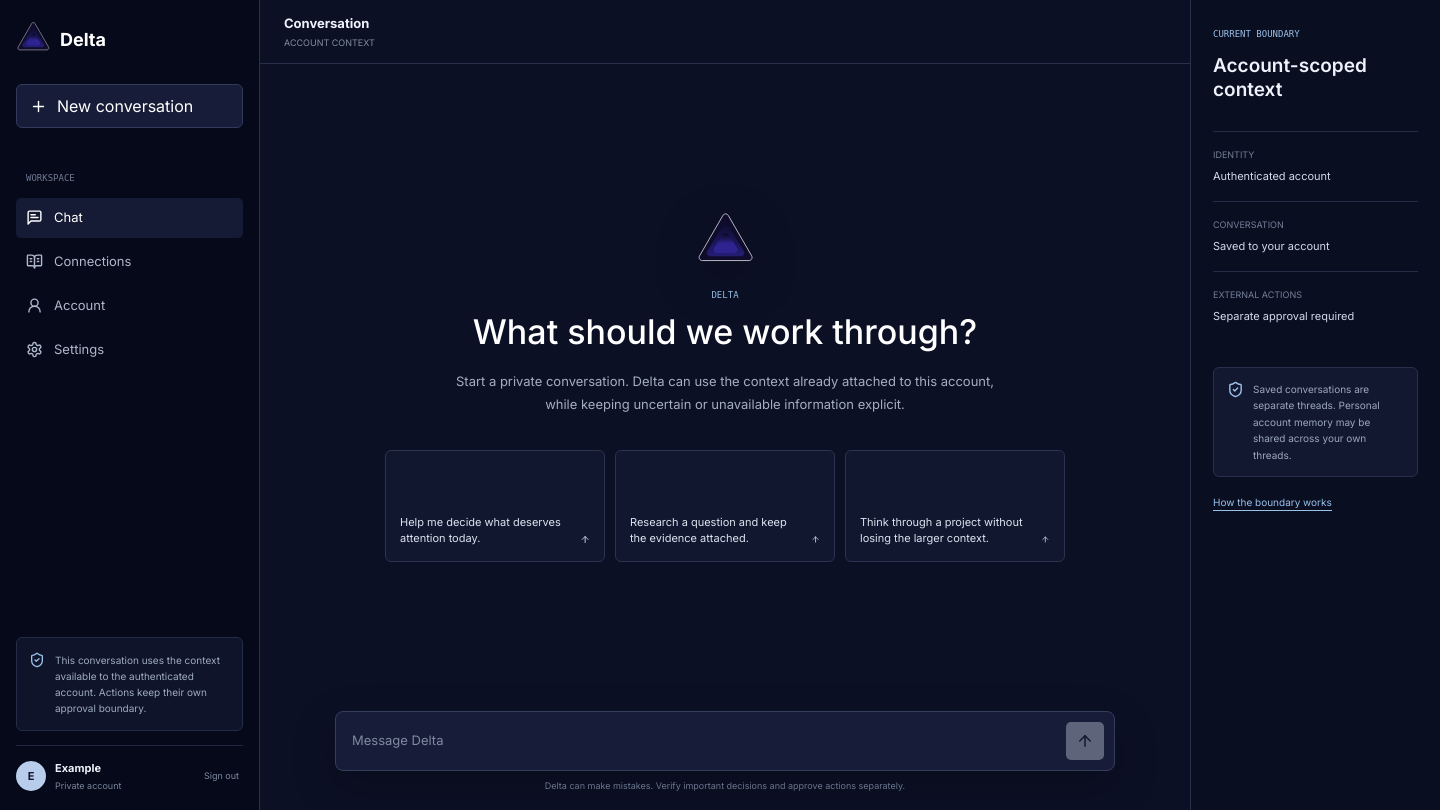
Test: Delta chat workspace › sends only conversation content with the authenticated bearer token
Type "What matters now?" into the text box labelled "Message Delta" at {"x": 704, "y": 740}, box [352,722,1056,760]
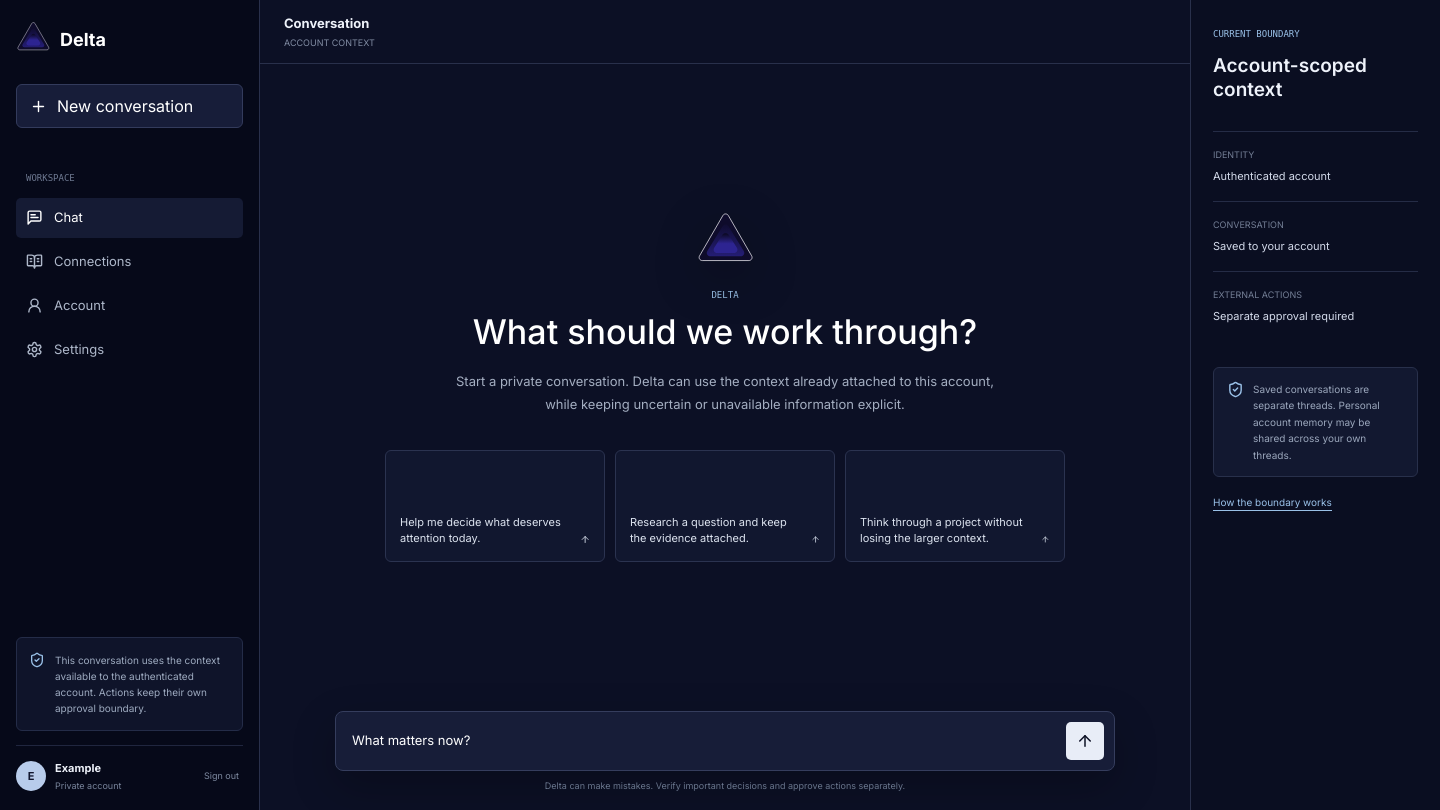
Click the button named "Send message" at {"x": 1085, "y": 740}, box [1066,722,1104,760]
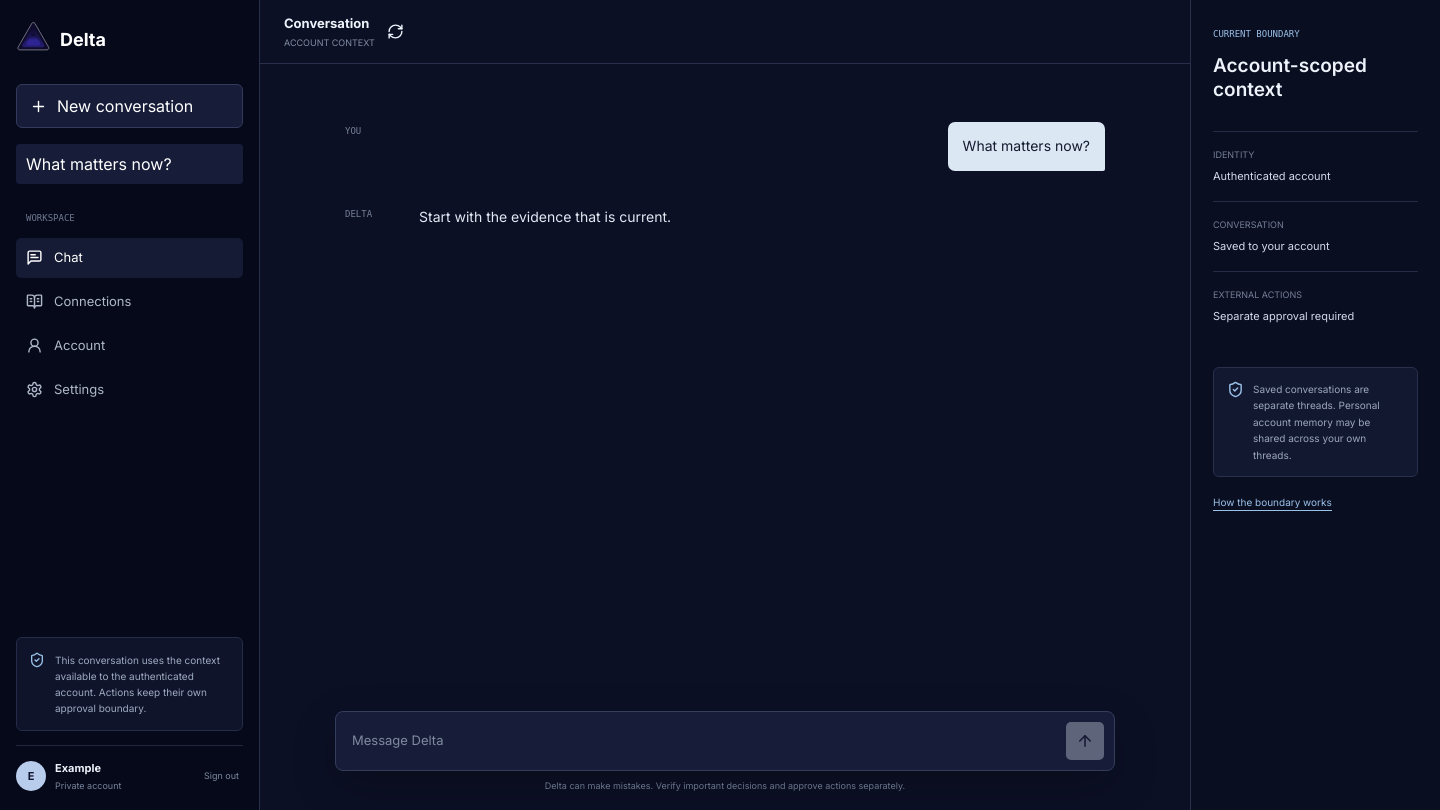
Now the text "Start with the evidence that is current." is shown, box [419,208,671,225]
Now the button "What matters now?" is shown, box [16,144,243,184]
